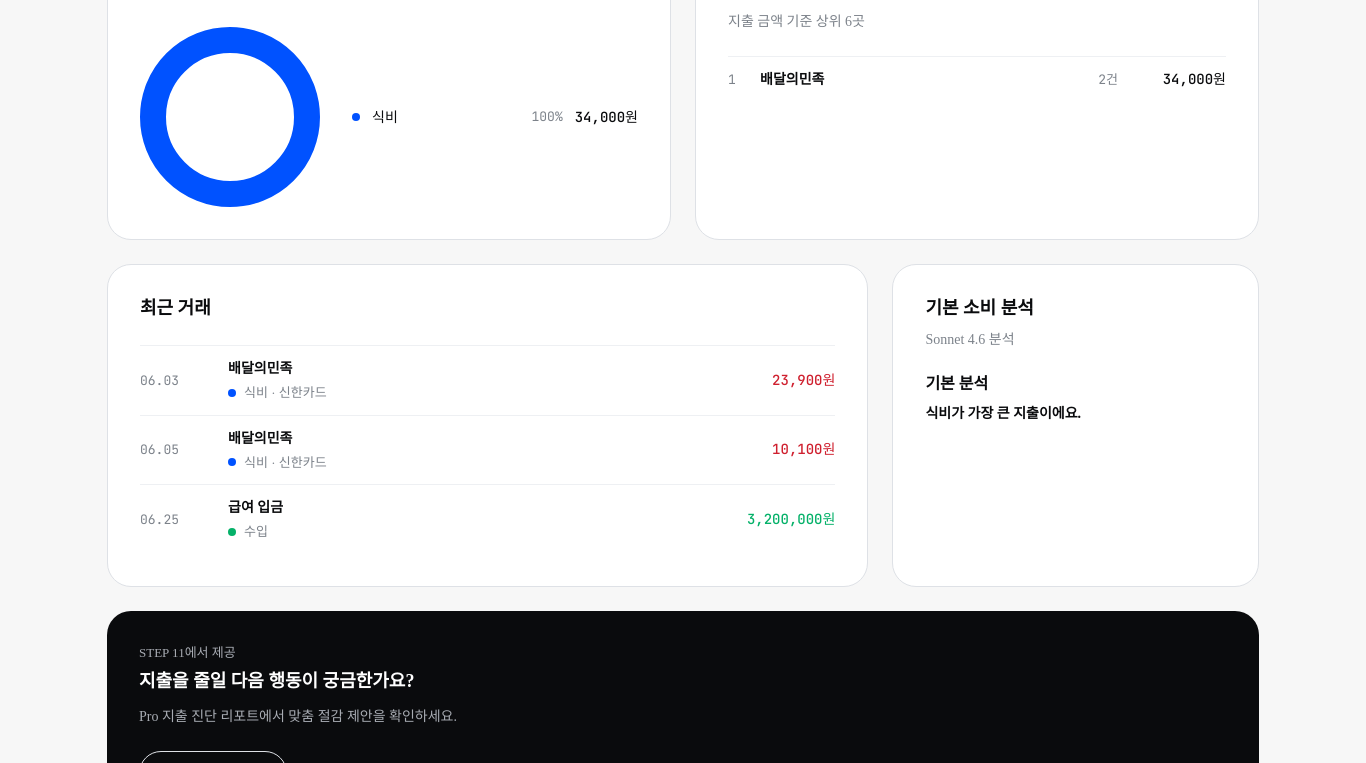
it: DashboardClient › keeps the fixture demo read-only and sends users to login
(page scrolled)
Click the button "06.03 배달의민족 식비 · 신한카드 23,900원". click: click(160, 380)
box: [140, 345, 835, 414]
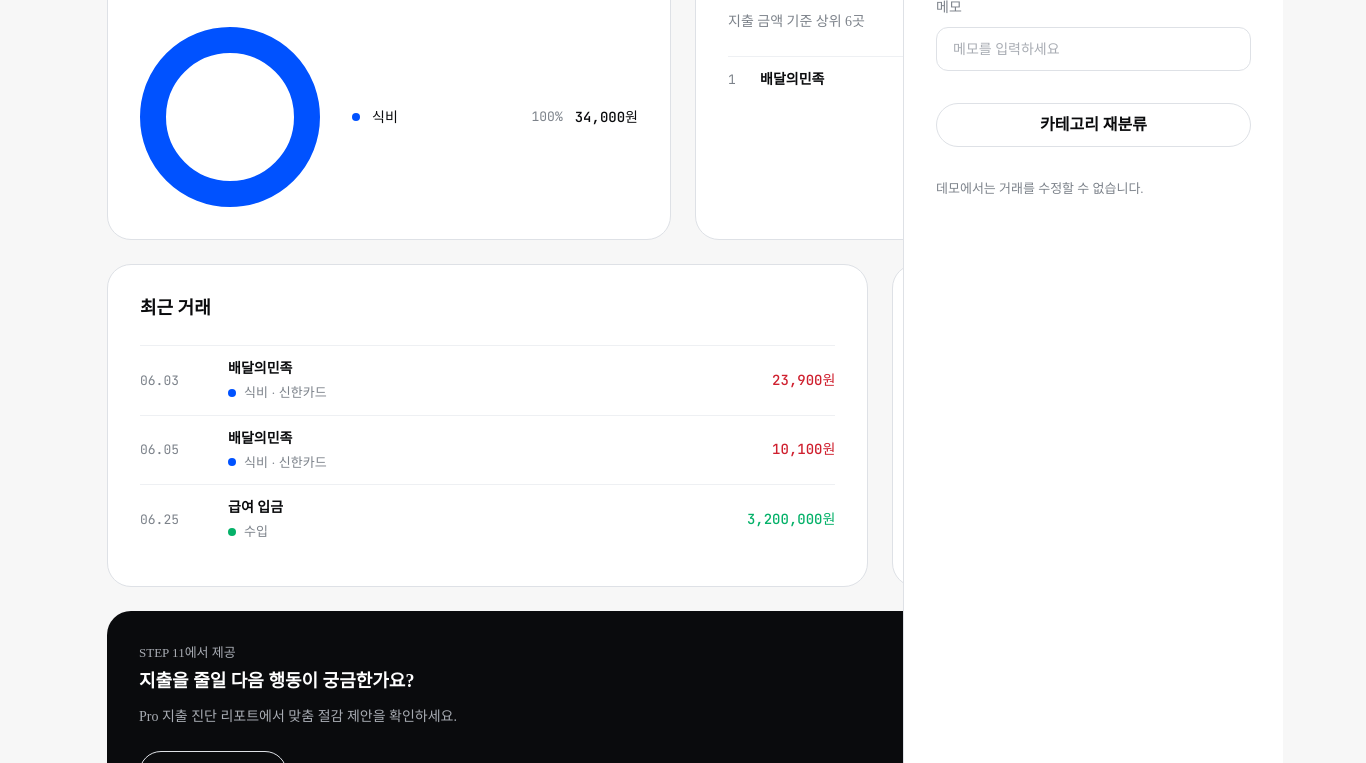
Expected: the button "카테고리 재분류" is disabled, [936, 103, 1251, 147]
